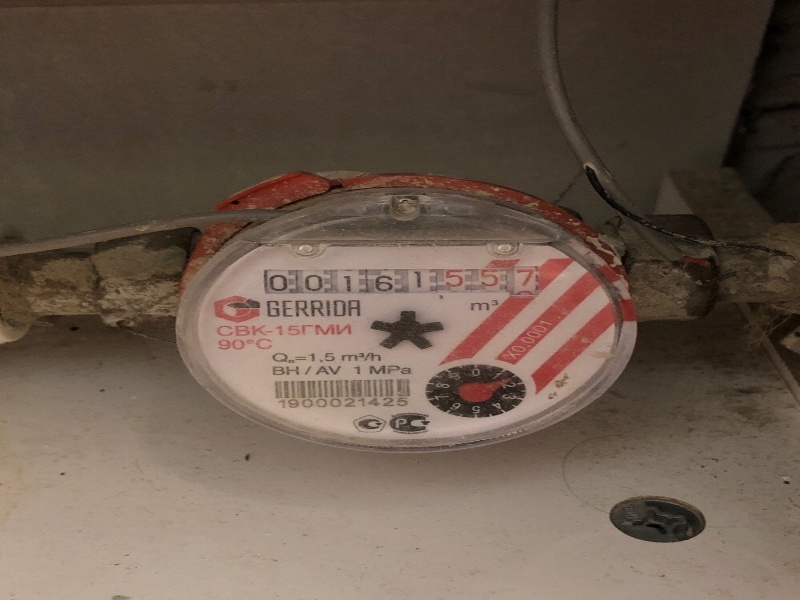meter: (260, 257, 566, 298)
